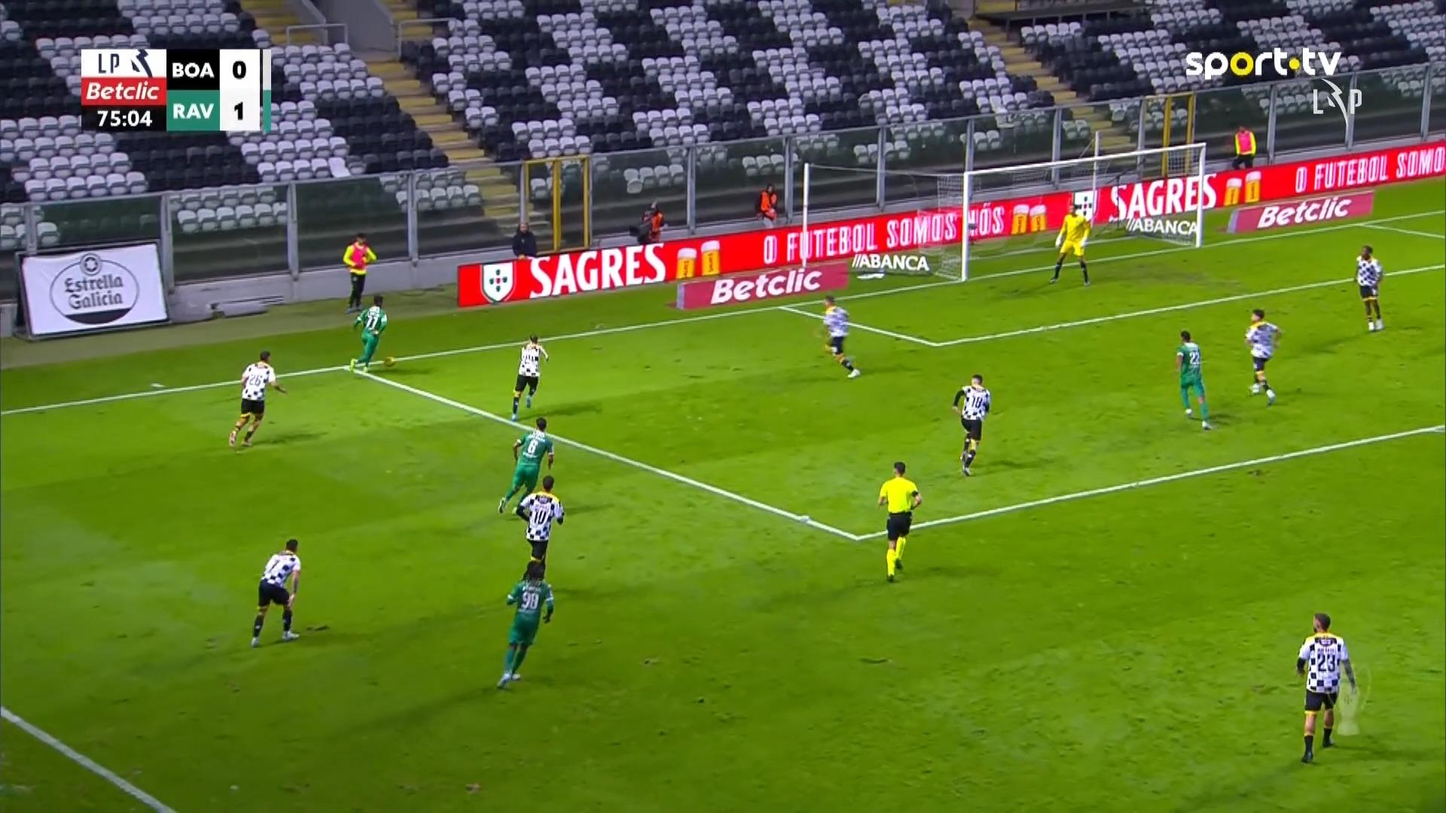ball: (383, 356, 394, 367)
goalkeeper: (1049, 202, 1092, 285)
player: (1295, 612, 1357, 763), (496, 559, 554, 690), (514, 474, 565, 615), (227, 349, 286, 449), (249, 537, 301, 647), (497, 416, 554, 514), (950, 373, 991, 477), (1173, 328, 1213, 430), (1244, 308, 1281, 406), (819, 293, 860, 379), (510, 333, 549, 421), (349, 294, 387, 372), (1354, 244, 1384, 331)
referee: (876, 460, 922, 583)
